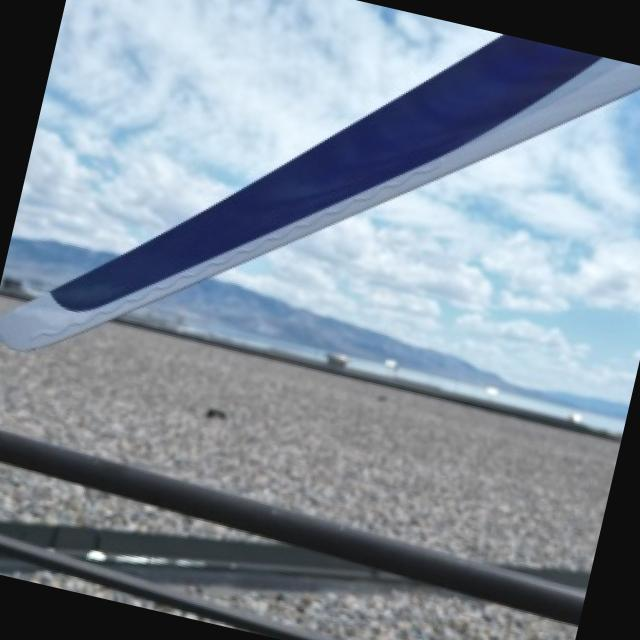healthy: (15, 0, 498, 249)
